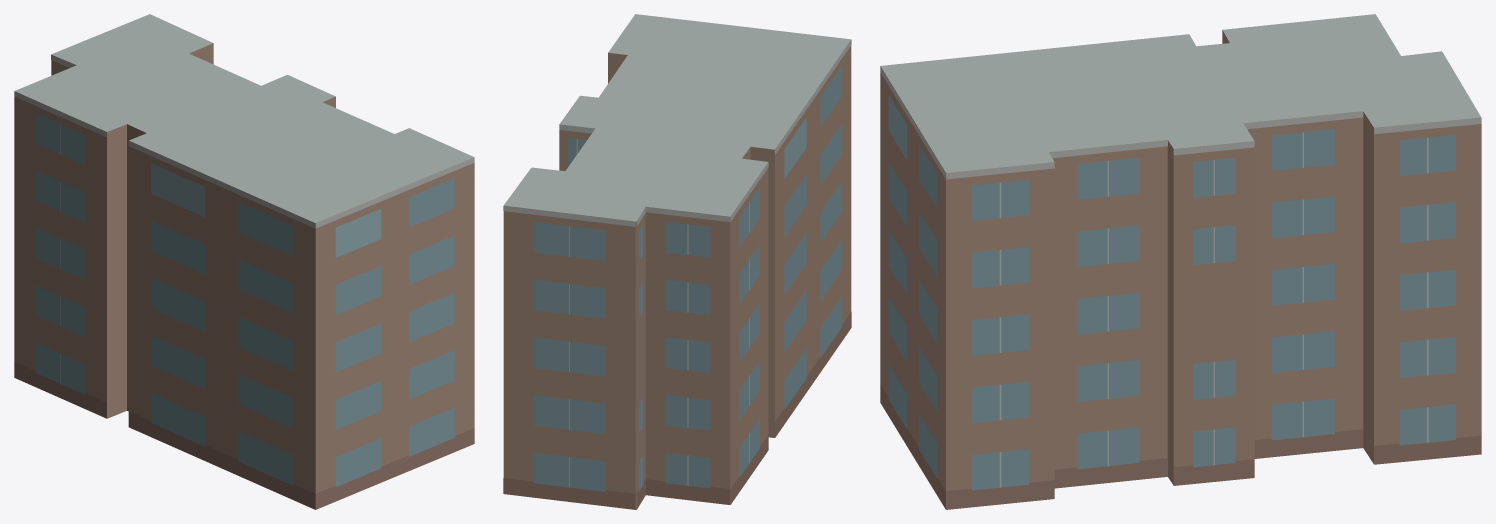
Rendered from survey-upis-32606262.glb.
The picture shows the model from 3 angles, left to right: view 1: azimuth 30°, elevation 25°; view 2: azimuth 150°, elevation 25°; view 3: azimuth 270°, elevation 25°; orthographic projection. The views are drawn at different scales.
Parts seen in each view (by area): view 1: survey-upis-32606262.tmp; view 2: survey-upis-32606262.tmp; view 3: survey-upis-32606262.tmp.
Boxes of the visible parts, box(x1,y1,x2,y2) form: survey-upis-32606262.tmp: box(14, 14, 474, 509); survey-upis-32606262.tmp: box(503, 14, 851, 509); survey-upis-32606262.tmp: box(880, 14, 1481, 509).
Size of the model in its own units: 12.97 by 12.8 by 20.71.
